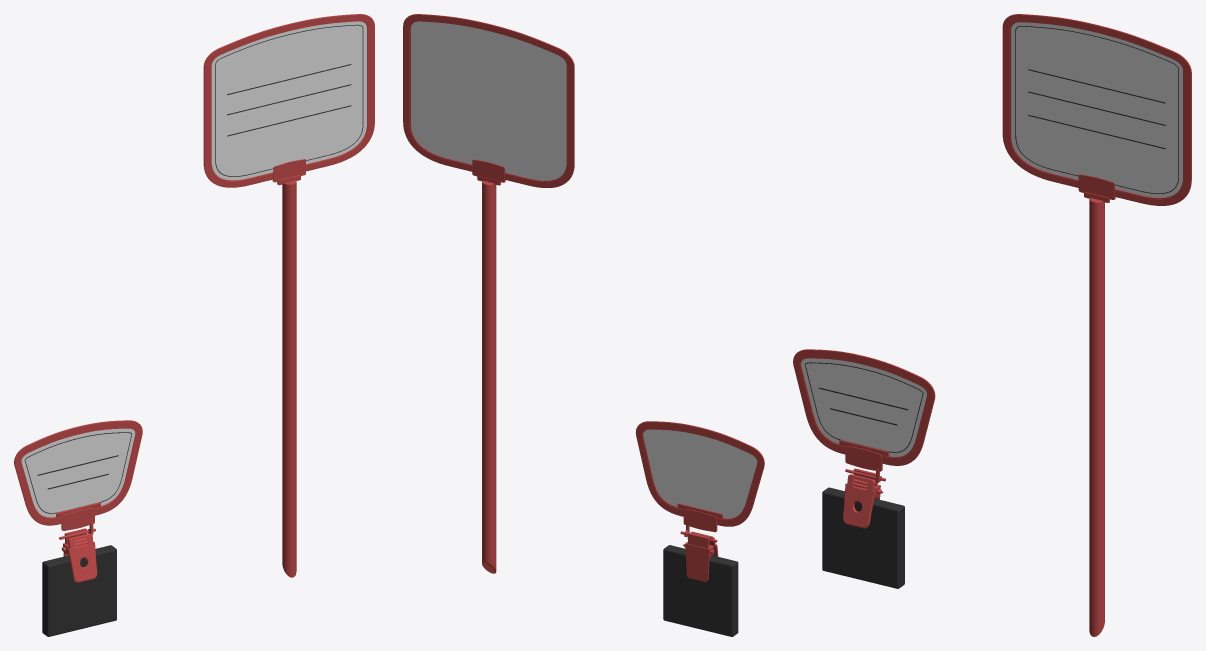
Rendered from pricelabels.FBX.
The picture shows the model from 3 angles, left to right: view 1: azimuth 30°, elevation 25°; view 2: azimuth 150°, elevation 25°; view 3: azimuth 330°, elevation 25°; orthographic projection. The views are drawn at different scales.
Parts seen in each view (by area): view 1: largepricelabel, smallpricelabel; view 2: largepricelabel, smallpricelabel; view 3: largepricelabel, smallpricelabel.
Part boxes in pixels (left/top/right/bottom): largepricelabel: left=203, top=14, right=374, bottom=577; smallpricelabel: left=14, top=420, right=142, bottom=636; largepricelabel: left=403, top=14, right=574, bottom=573; smallpricelabel: left=635, top=421, right=764, bottom=636; largepricelabel: left=1002, top=14, right=1191, bottom=636; smallpricelabel: left=793, top=349, right=935, bottom=588.
Size of the model in its own units: 83.98 by 123 by 4.76.
